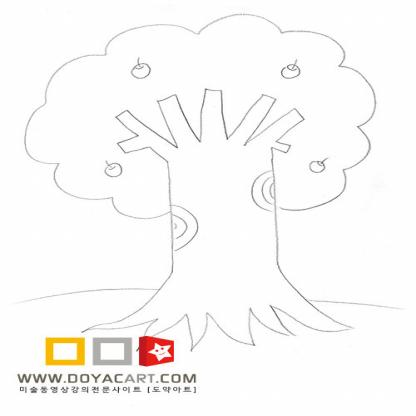apple: (130, 58, 152, 79), (102, 160, 125, 178), (281, 60, 301, 78), (308, 157, 327, 174)
branch_cut: (115, 88, 303, 158)
crown_cloud: (23, 14, 376, 219)
knot: (167, 204, 201, 251), (249, 171, 276, 213)
root_upside: (81, 272, 356, 352)
trunk_straight: (165, 168, 283, 270)
